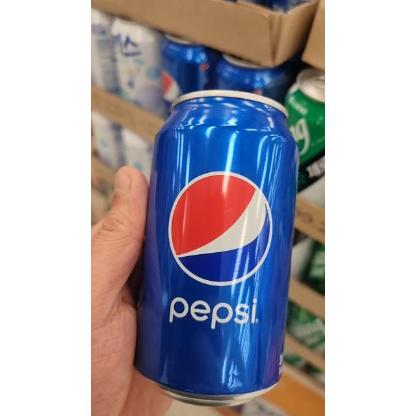Can: (133, 89, 295, 405)
